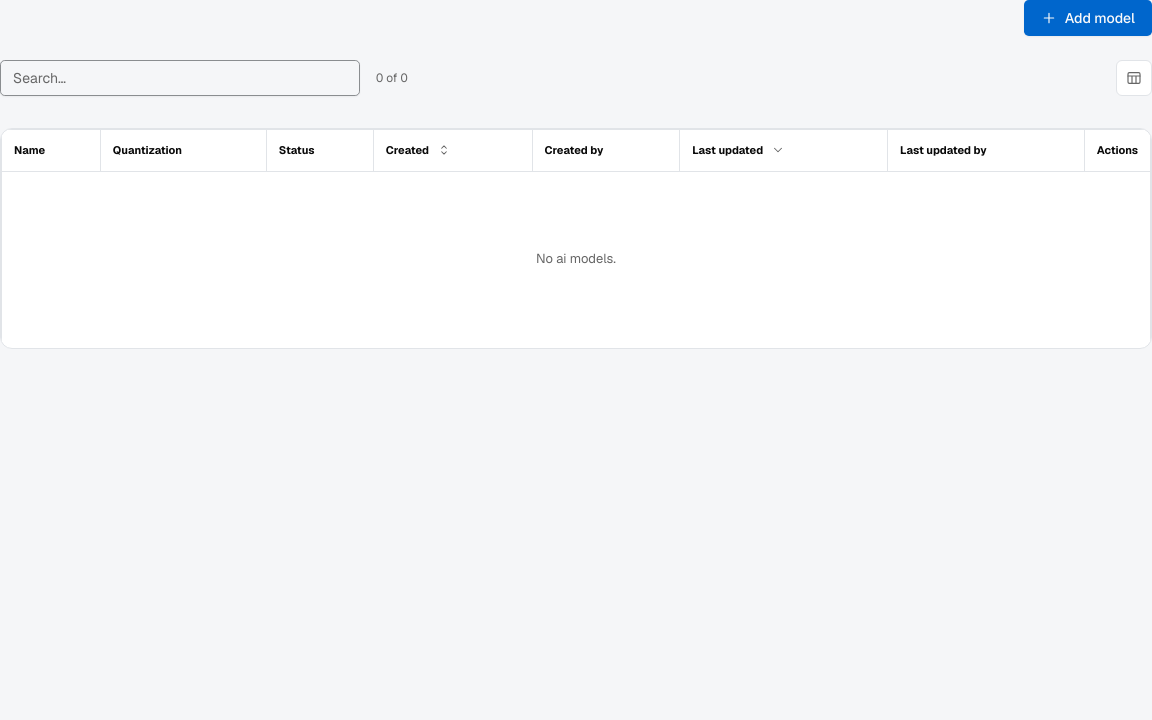
Test: Model catalog › registers a custom model and refreshes application choices
Click the button "Add model" at (1088, 18), box [1024,0,1151,36]
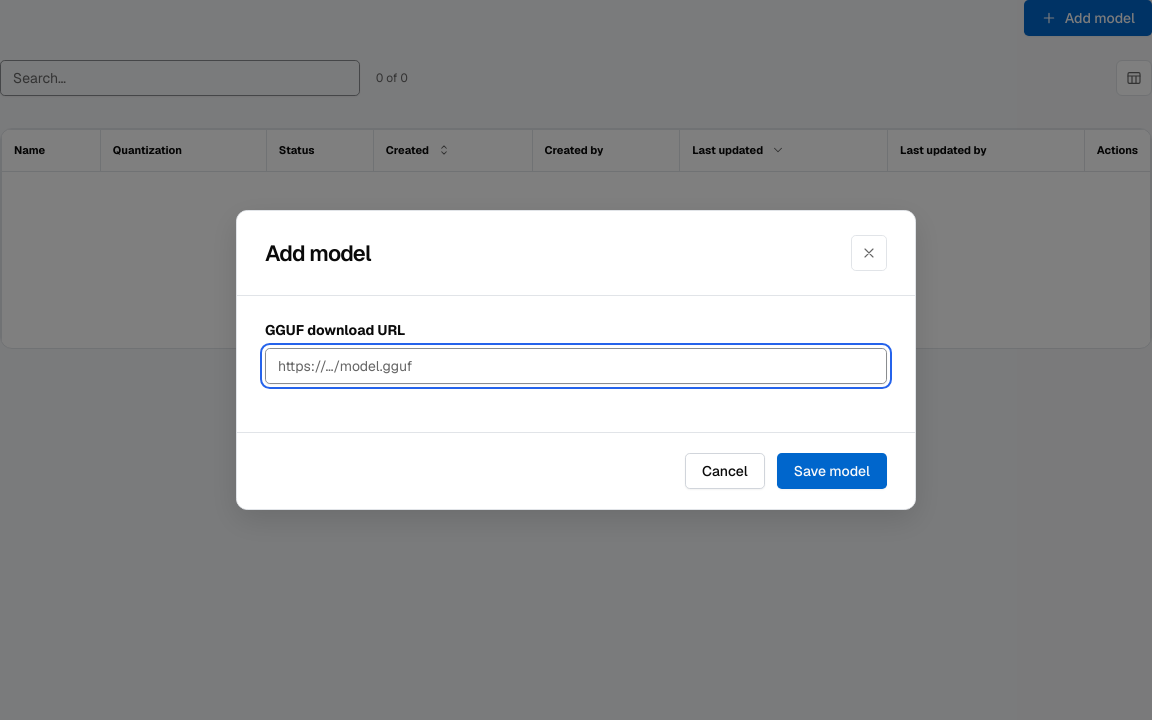
Type "https://models.example.org/model.gguf" into the field labelled "GGUF download URL" at (576, 366), box [265,348,887,384]
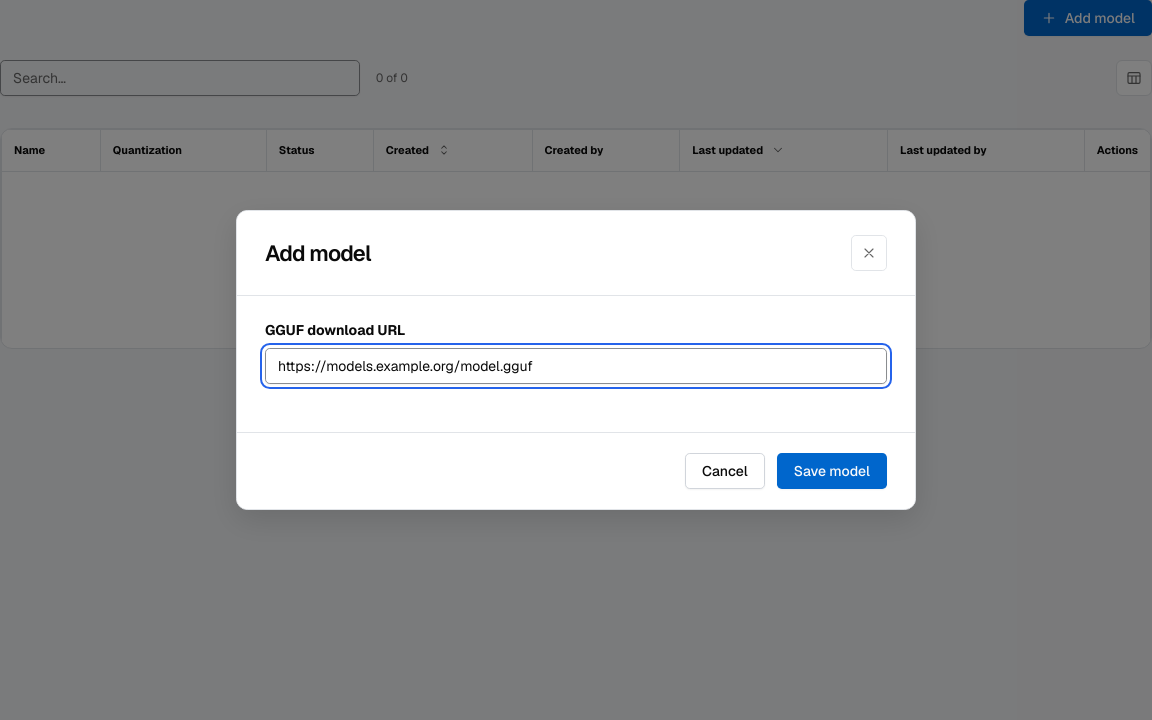
Click the button "Save model" at (832, 471), box [777,453,887,489]
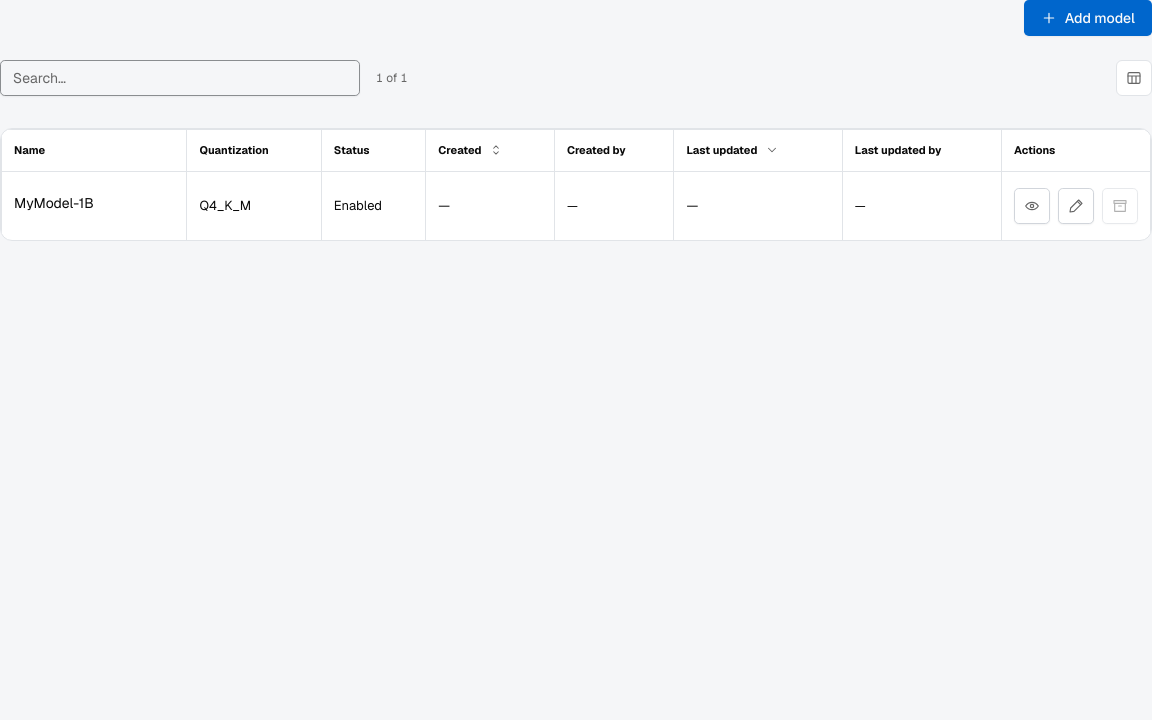
Now the heading "MyModel-1B" is shown, box [14,194,94,212]
